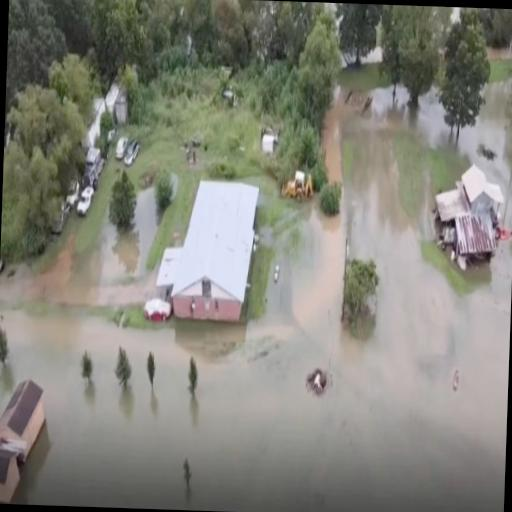flood: (0, 82, 512, 512), (462, 82, 512, 228)
house: (158, 173, 264, 337), (430, 158, 512, 268), (0, 376, 47, 499)
